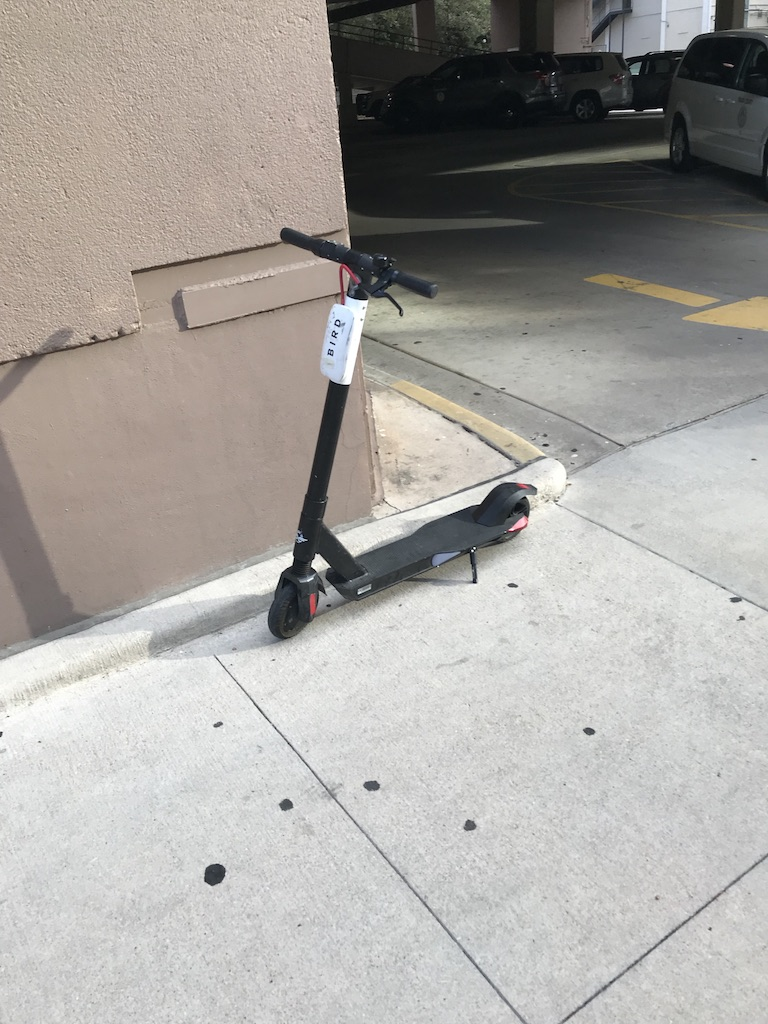scooter: (268, 226, 542, 645)
